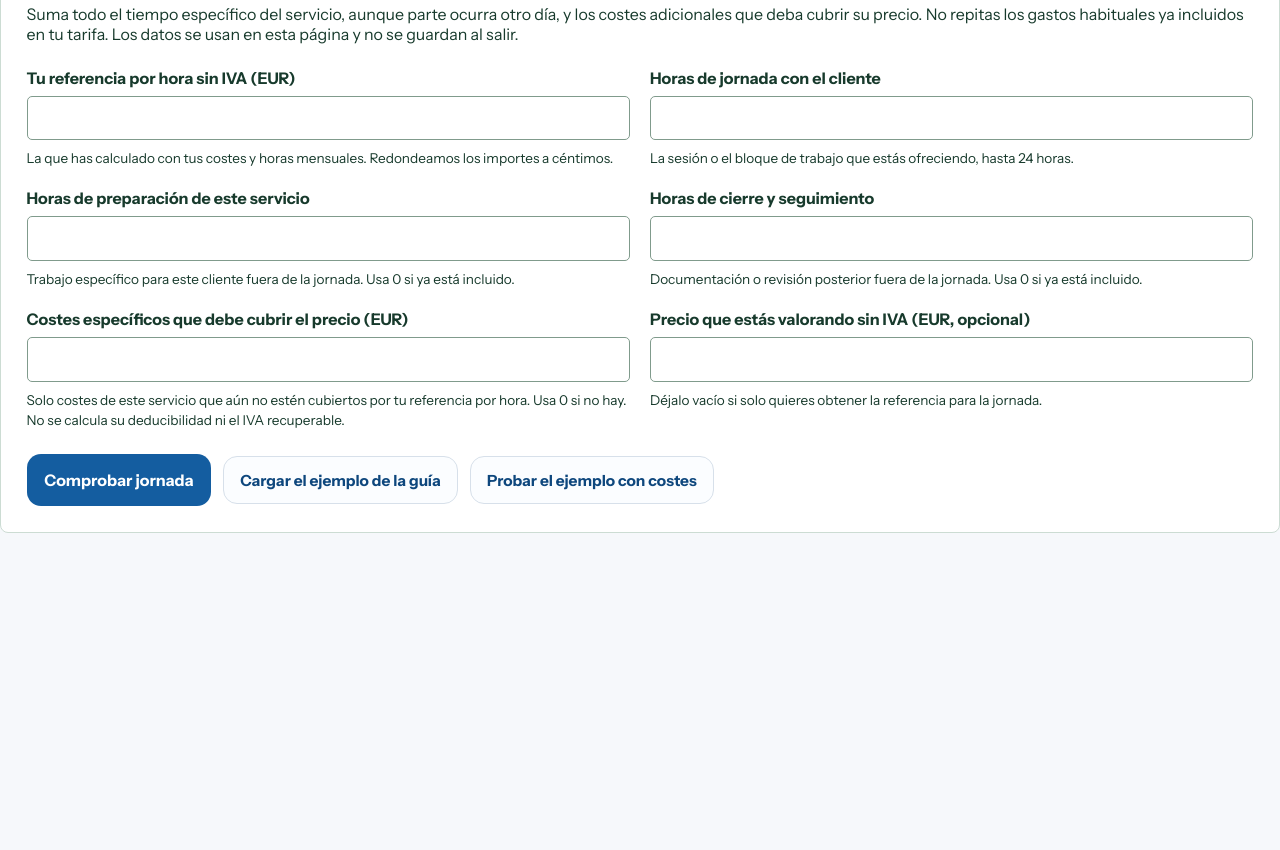
Test case: day-rate planner › requires a deliberate zero for costs and reports prices below the outlay
The width and height of the screenshot is (1280, 850).
Click the button "Probar el ejemplo con costes". click: (592, 480)
box: [470,456,714,504]
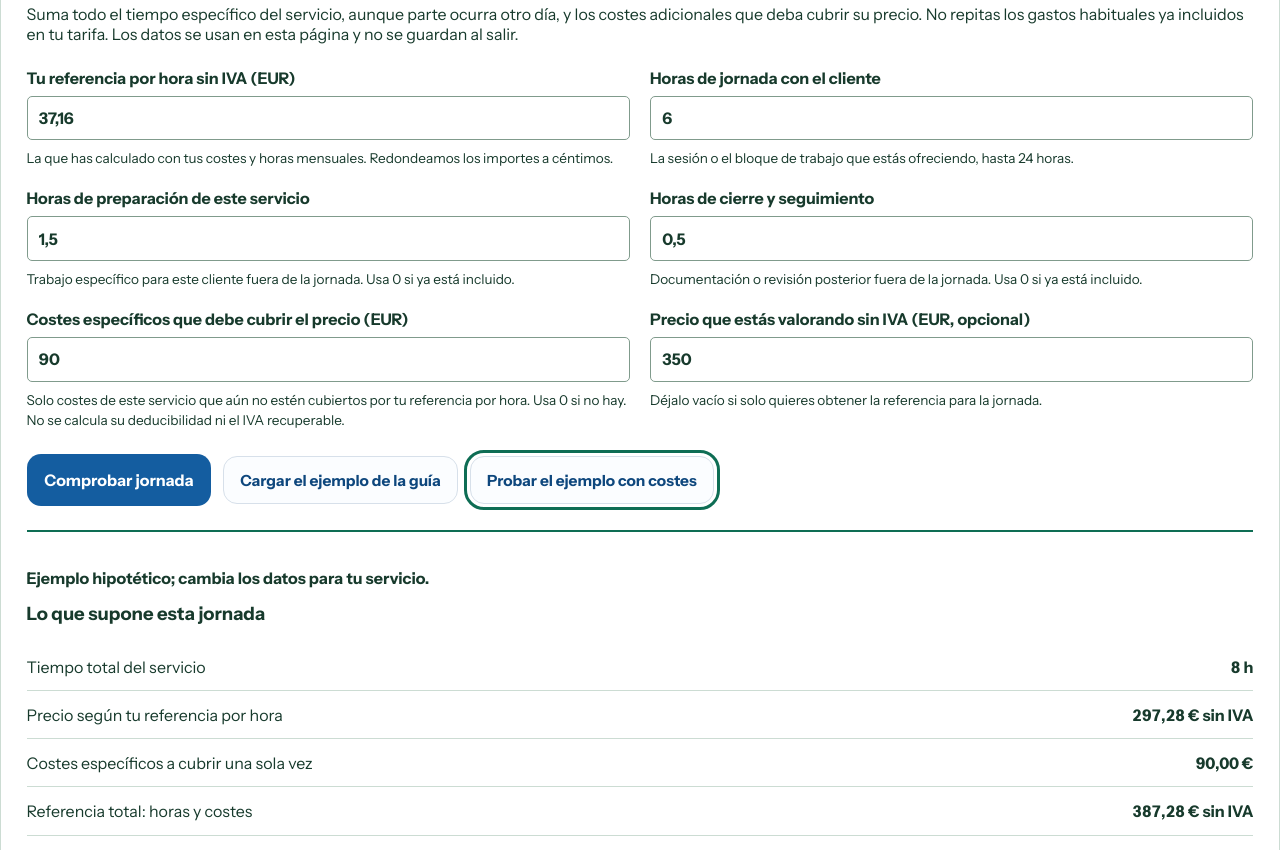
Clear the field labelled "Costes específicos que debe cubrir el precio (EUR)". click: (328, 359)
box: [27,337,630,382]
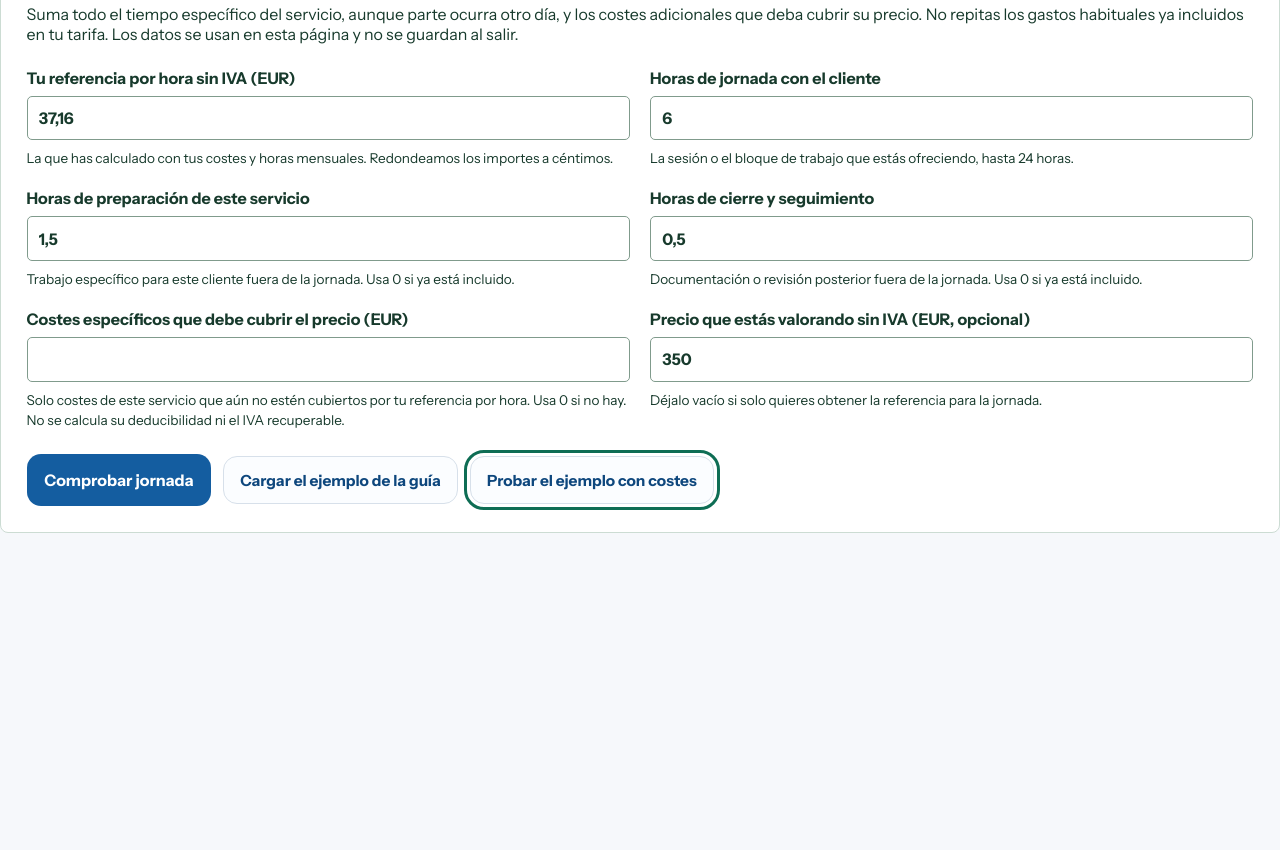
Click the button "Comprobar jornada". click: (119, 480)
box: [27,454,211,506]
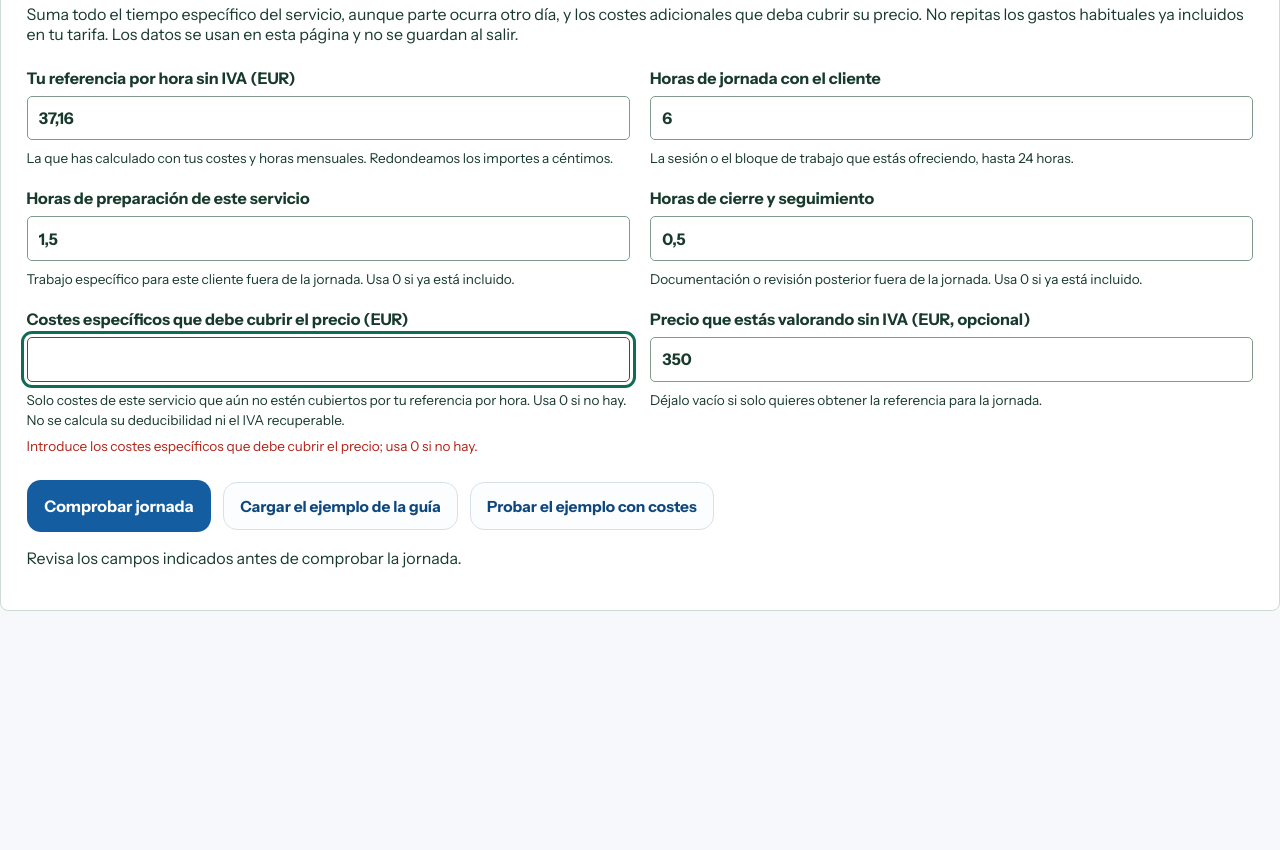
Type "90" into the field labelled "Costes específicos que debe cubrir el precio (EUR)". click: (328, 359)
box: [27,337,630,382]
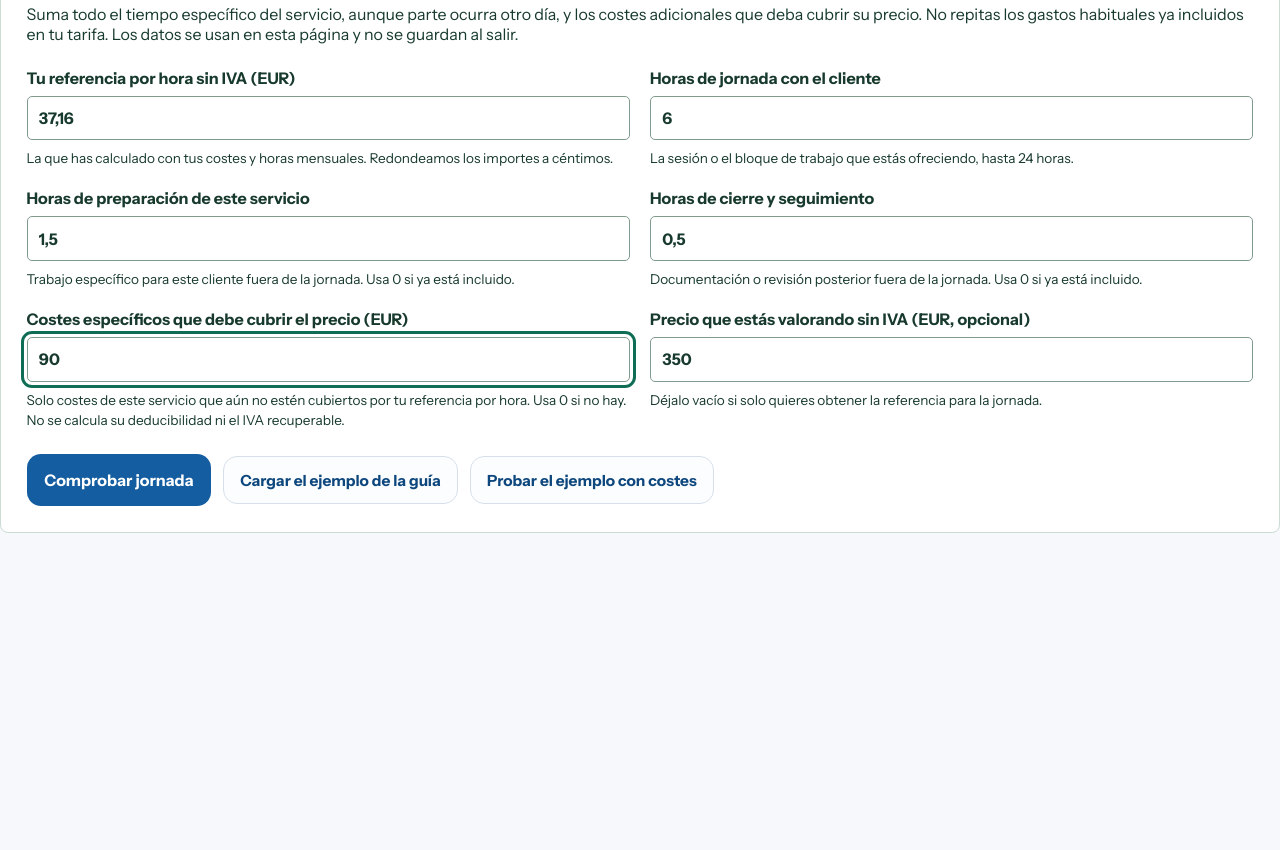
Replace the text in the field labelled "Precio que estás valorando sin IVA (EUR, opcional)" with "60". click: (952, 359)
box: [650,337,1253,382]
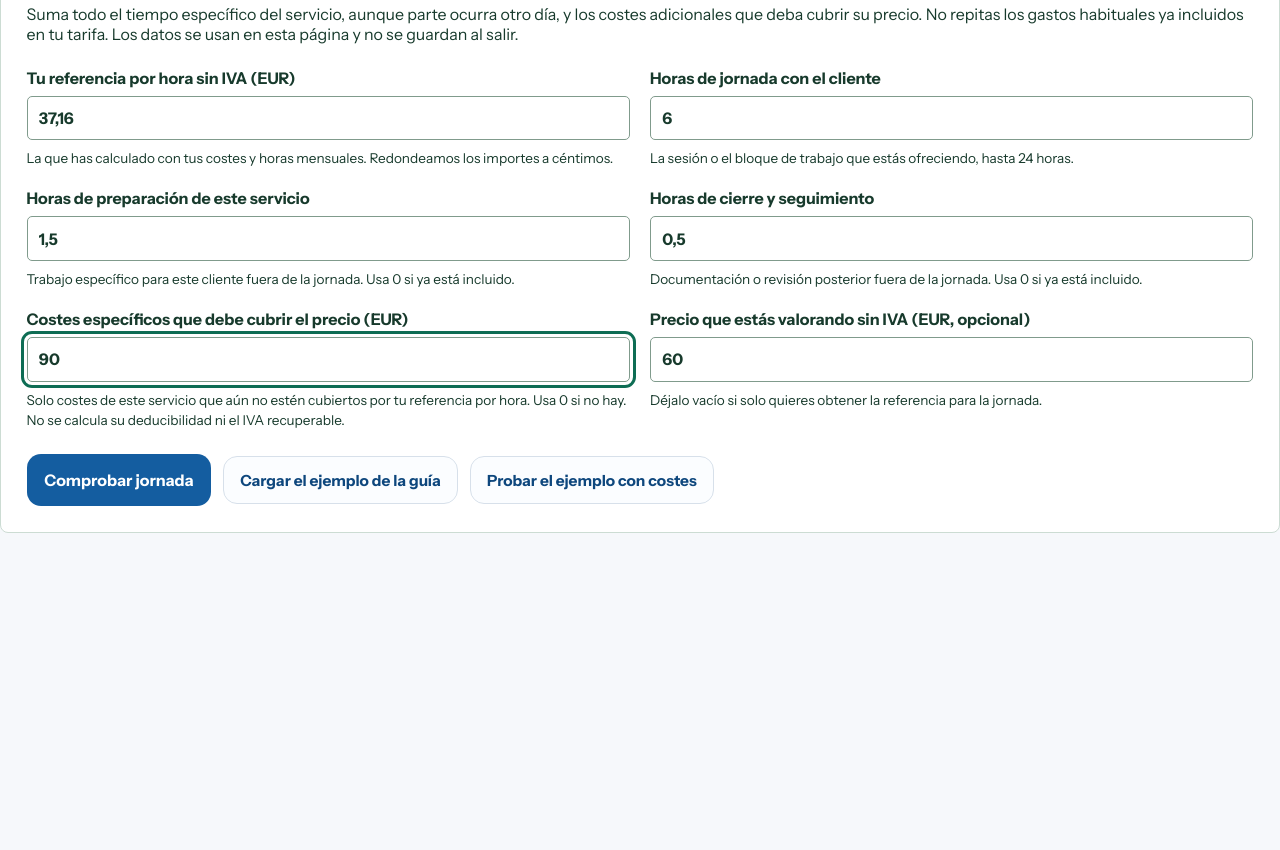
Click the button "Comprobar jornada". click: (119, 480)
box: [27,454,211,506]
(page scrolled)
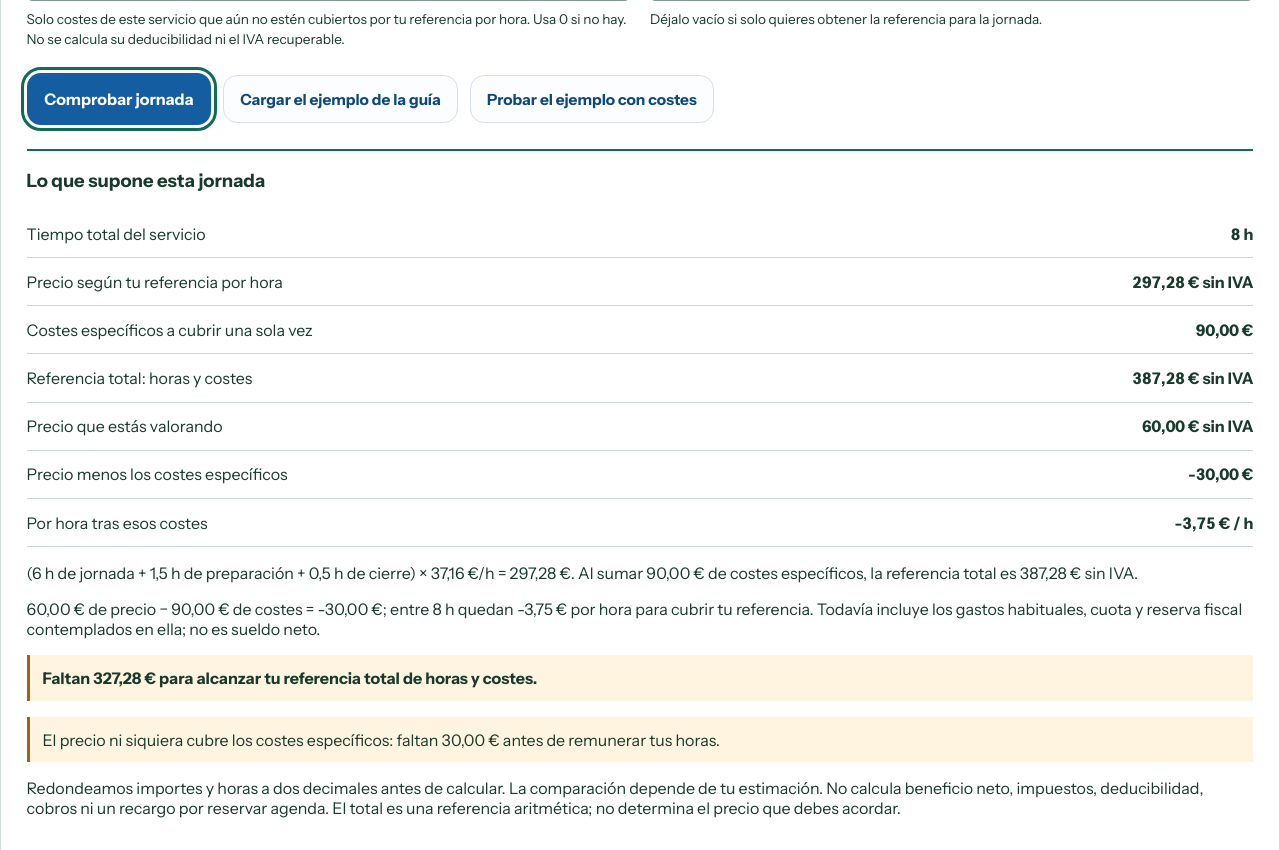
Result: the message shows "-3,75" at [1175,513,1230,533]
